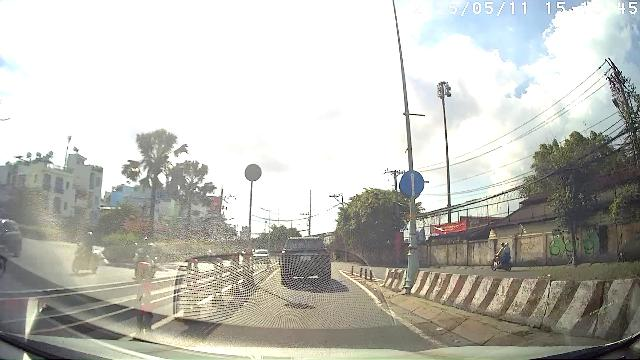301a-cac-xe-chi-duoc-di-thang: (400, 170, 425, 196)
